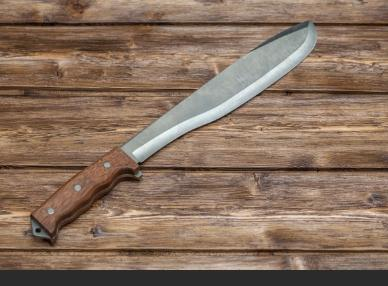MACHETTE: (26, 12, 320, 249)
